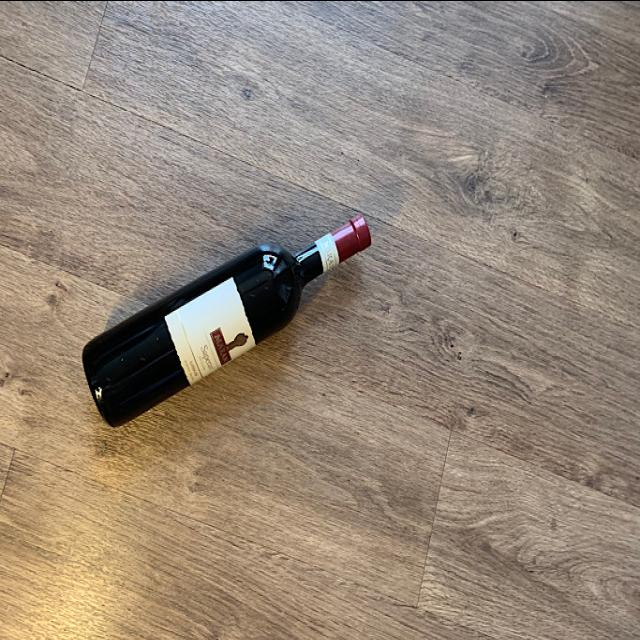Glass Bottle: (82, 208, 380, 432)
